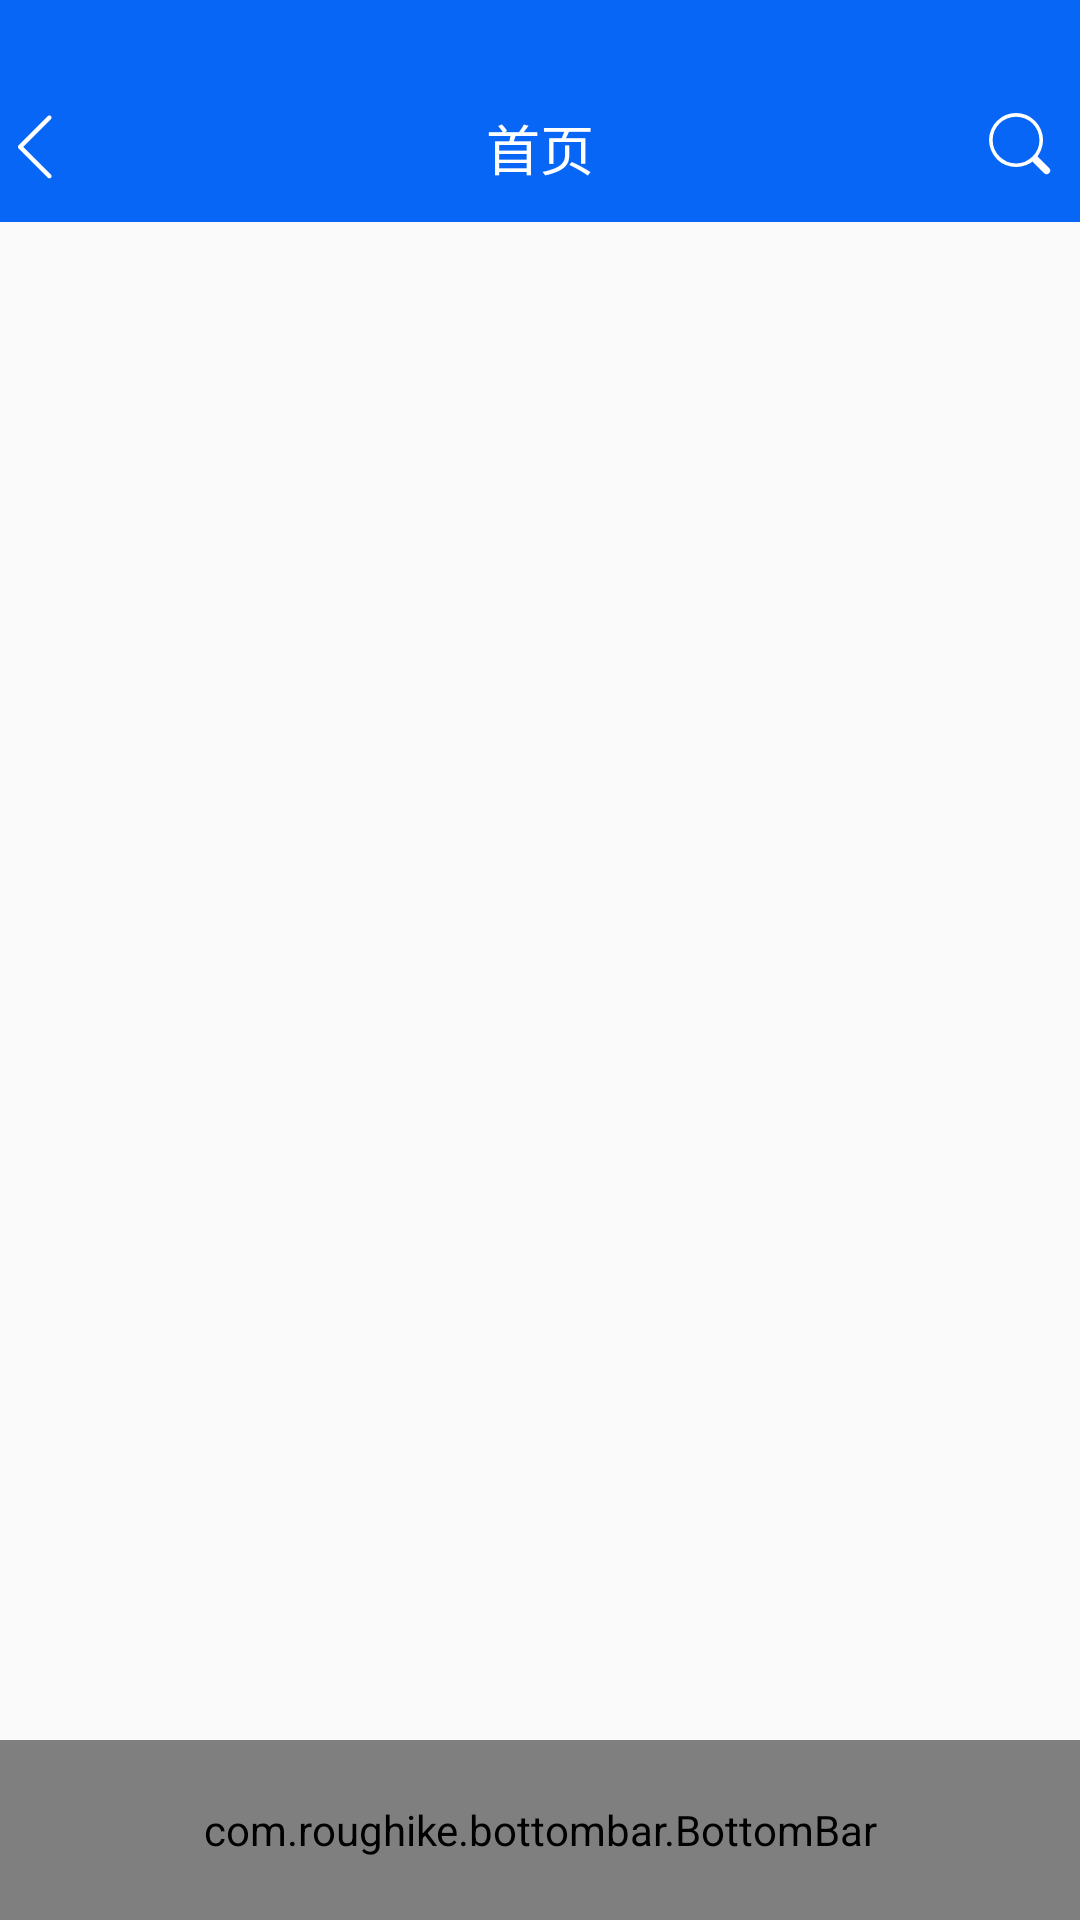

Where icons sit on this 1080w x 1920h app screen, as (x1, y1, x2, y2):
back: (18, 115, 52, 179)
search: (989, 113, 1051, 175)
